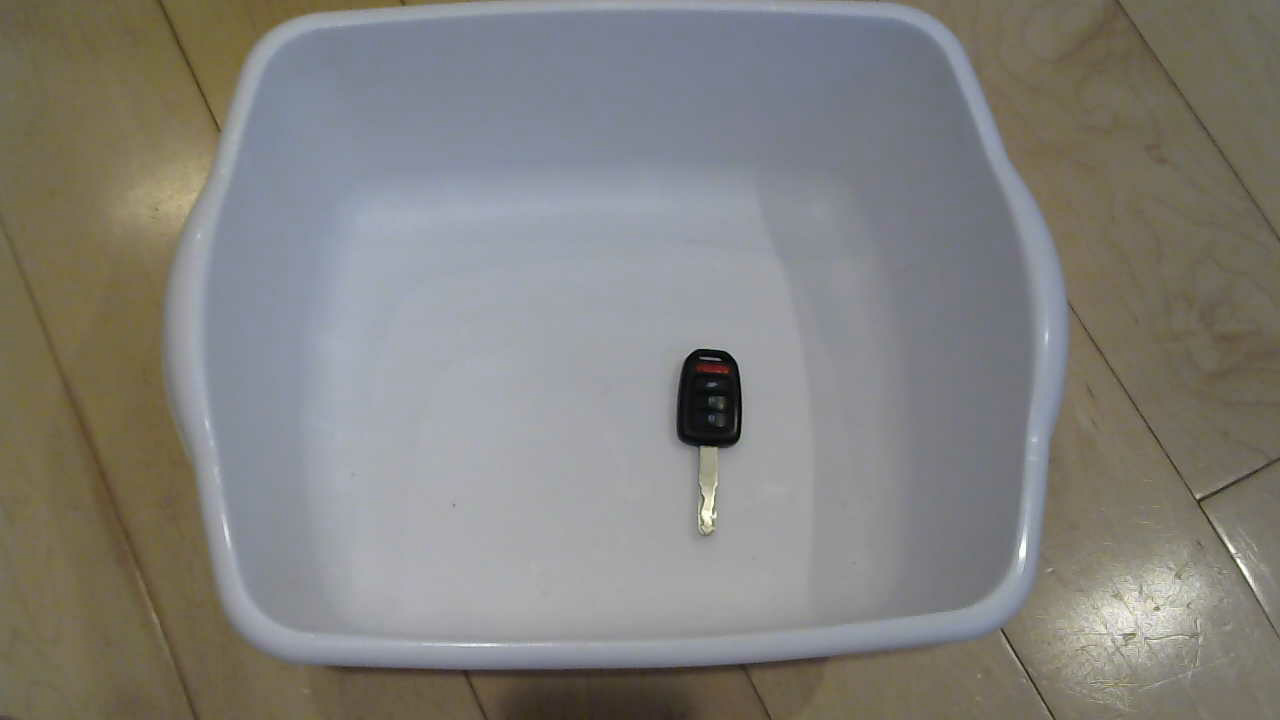key: (653, 349, 775, 548)
